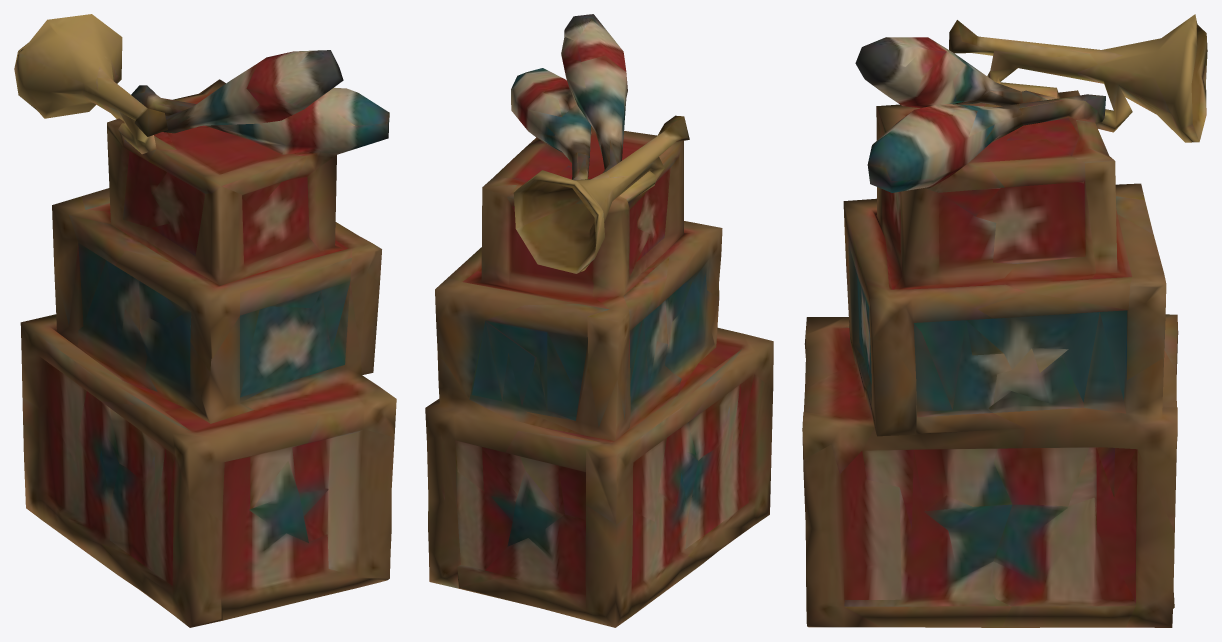
File: crates.glb
3 renders of one model, left to right at view 1: azimuth 30°, elevation 25°; view 2: azimuth 150°, elevation 25°; view 3: azimuth 270°, elevation 25°, orthographic. The views are drawn at different scales.
Visible parts, largest first — view 1: tripo_node_15adcbf6-675b-4ac0-a85f-6a88971dcacb; view 2: tripo_node_15adcbf6-675b-4ac0-a85f-6a88971dcacb; view 3: tripo_node_15adcbf6-675b-4ac0-a85f-6a88971dcacb.
Part boxes in pixels (x1,y1,x2,y2): tripo_node_15adcbf6-675b-4ac0-a85f-6a88971dcacb: (14, 14, 396, 627); tripo_node_15adcbf6-675b-4ac0-a85f-6a88971dcacb: (425, 14, 773, 627); tripo_node_15adcbf6-675b-4ac0-a85f-6a88971dcacb: (802, 14, 1207, 627).
Bounding box in the file's own units: 0.4879 × 1 × 0.6463.
1 material, 1 textured.
